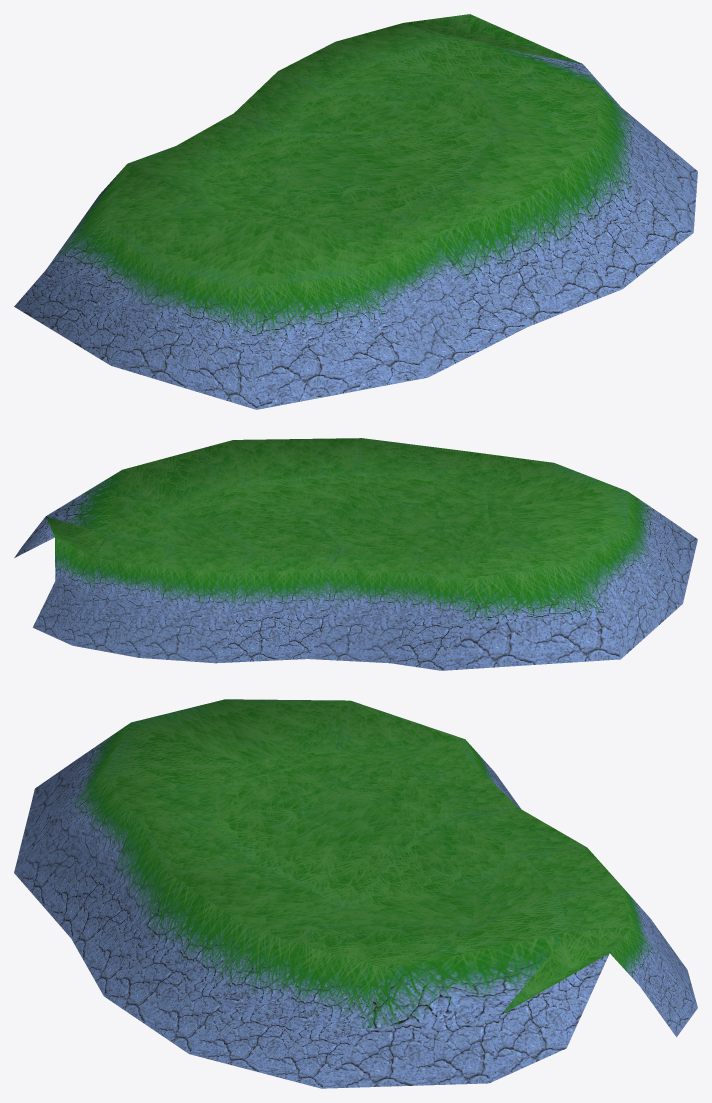
Rendered from track_chinese_env_terrain_04.FBX.
3 renders of one model, top to bottom at view 1: azimuth 30°, elevation 25°; view 2: azimuth 150°, elevation 25°; view 3: azimuth 270°, elevation 25°, orthographic. The views are drawn at different scales.
Parts seen in each view (by area): view 1: track_chinese_env_terrain_04; view 2: track_chinese_env_terrain_04; view 3: track_chinese_env_terrain_04.
Boxes of the visible parts, left/top/right/bottom form: track_chinese_env_terrain_04: left=14, top=14, right=697, bottom=409; track_chinese_env_terrain_04: left=14, top=438, right=697, bottom=670; track_chinese_env_terrain_04: left=14, top=699, right=697, bottom=1088.
Size of the model in its own units: 379 by 45.98 by 322.
